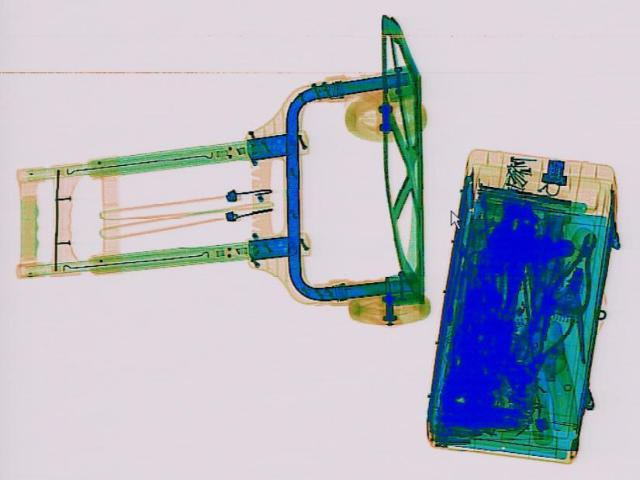Pliers: (540, 226, 614, 316)
